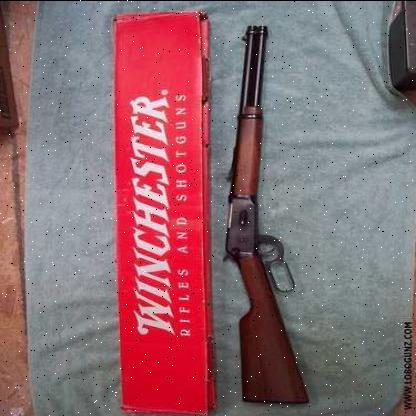rifle: (203, 11, 329, 404)
